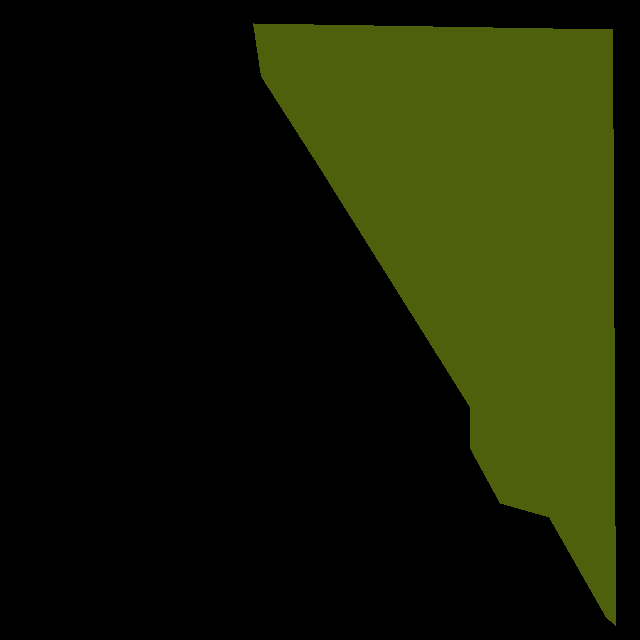Train: (253, 23, 615, 626)
